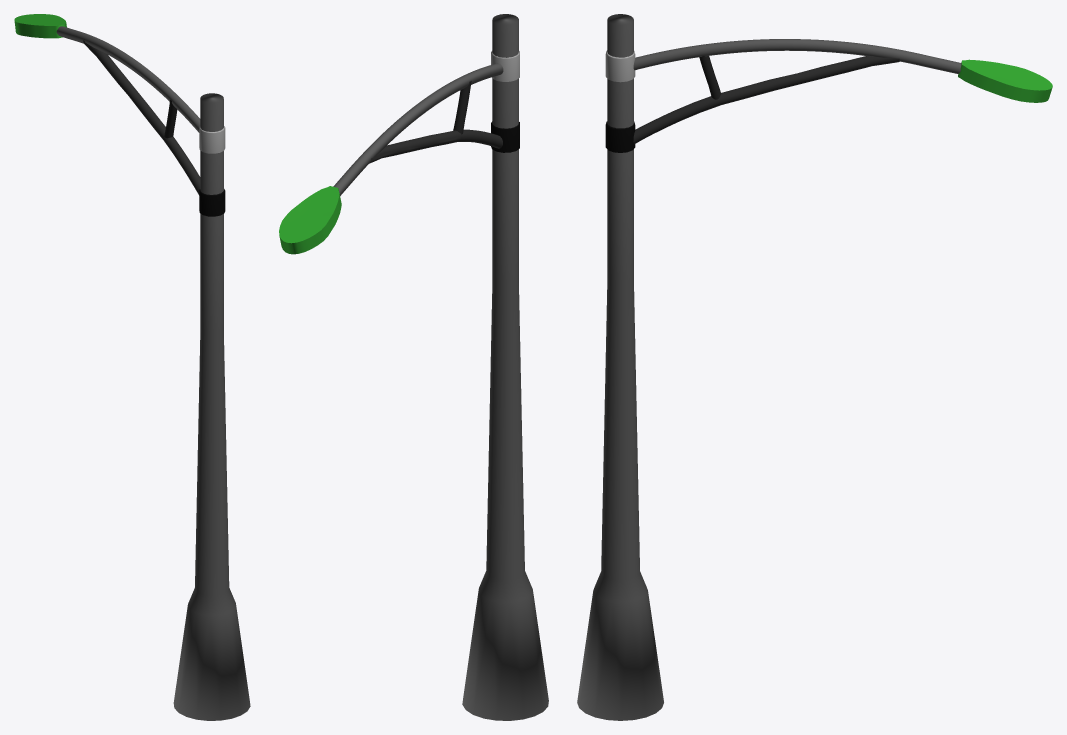
The model's file is LightStick.fbx.
3 renders of one model, left to right at view 1: azimuth 30°, elevation 25°; view 2: azimuth 150°, elevation 25°; view 3: azimuth 270°, elevation 25°, orthographic. The views are drawn at different scales.
Parts seen in each view (by area): view 1: pCylinder1, pCylinder6, pCylinder11, pCylinder16, pCylinder15, pCylinder14; view 2: pCylinder1, pCylinder16, pCylinder6, pCylinder11, pCylinder14, pCylinder15, pCylinder10; view 3: pCylinder1, pCylinder6, pCylinder11, pCylinder16, pCylinder14, pCylinder15.
Boxes of the visible parts, bbox=[...] form: pCylinder1: bbox=[173, 93, 250, 720]; pCylinder6: bbox=[56, 26, 200, 132]; pCylinder11: bbox=[83, 40, 200, 195]; pCylinder16: bbox=[14, 14, 66, 38]; pCylinder15: bbox=[199, 189, 225, 216]; pCylinder14: bbox=[199, 126, 225, 153]; pCylinder1: bbox=[462, 14, 548, 720]; pCylinder16: bbox=[279, 186, 341, 254]; pCylinder6: bbox=[333, 63, 503, 195]; pCylinder11: bbox=[369, 129, 502, 163]; pCylinder14: bbox=[491, 51, 519, 81]; pCylinder15: bbox=[491, 121, 519, 152]; pCylinder10: bbox=[453, 81, 471, 134]; pCylinder1: bbox=[577, 14, 663, 720]; pCylinder6: bbox=[633, 39, 961, 74]; pCylinder11: bbox=[633, 56, 899, 143]; pCylinder16: bbox=[958, 59, 1052, 102]; pCylinder14: bbox=[605, 50, 635, 82]; pCylinder15: bbox=[605, 121, 635, 152].
Bounding box in the file's own units: 1.83 × 15.81 × 9.98.
